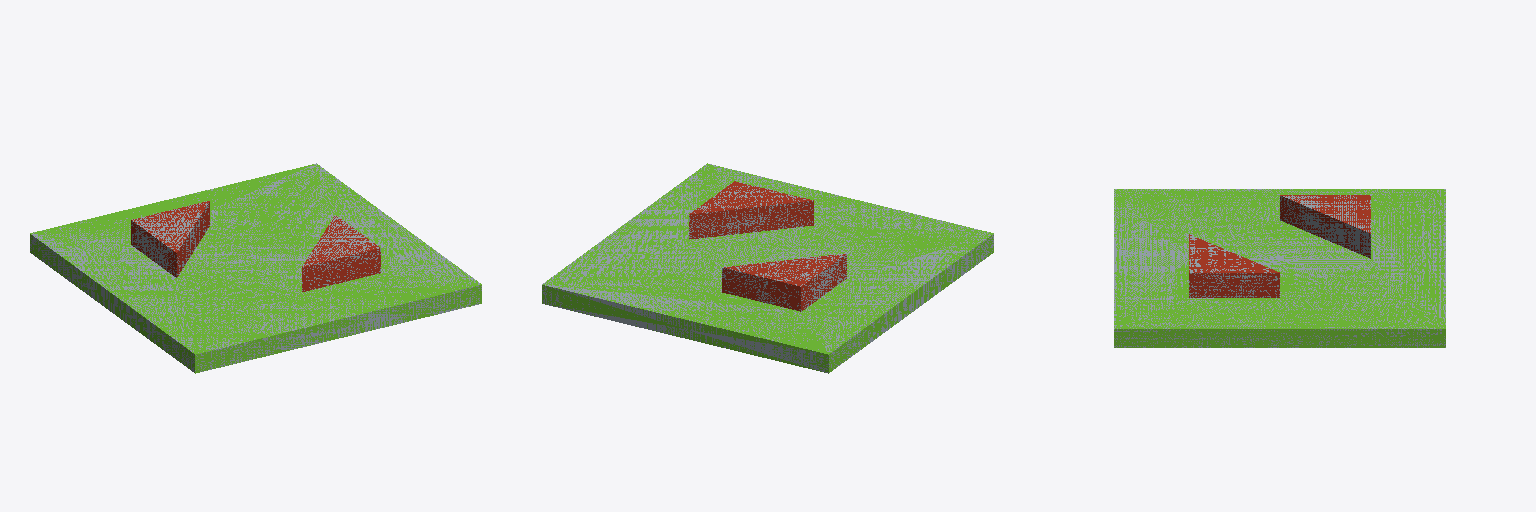
File: Obstacle_triangle_01.obj
3 views of the same model, side by side, from view 1: azimuth 30°, elevation 25°; view 2: azimuth 150°, elevation 25°; view 3: azimuth 270°, elevation 25° (orthographic).
Visible parts, largest first — view 1: Mesh1 Obstacle_triangle Model; view 2: Mesh1 Obstacle_triangle Model; view 3: Mesh1 Obstacle_triangle Model.
Boxes of the visible parts, x1,y1,x2,y2 form: Mesh1 Obstacle_triangle Model: [30, 163, 481, 373]; Mesh1 Obstacle_triangle Model: [542, 163, 993, 373]; Mesh1 Obstacle_triangle Model: [1114, 189, 1445, 347].
Bounding box in the file's own units: 3 × 0.44 × 3.